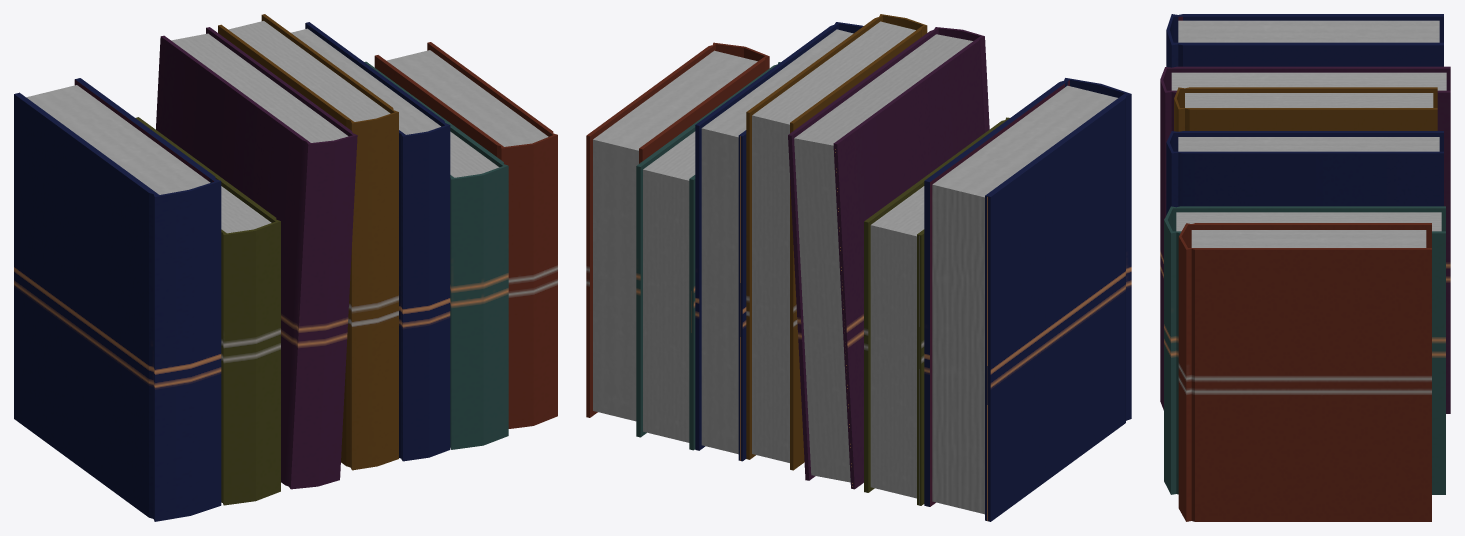
Rendered from Prop_Books_Stacks_3.fbx.
3 renders of one model, left to right at view 1: azimuth 30°, elevation 25°; view 2: azimuth 150°, elevation 25°; view 3: azimuth 270°, elevation 25°, orthographic. The views are drawn at different scales.
Visible parts, largest first — view 1: Prop_Books_Stacks_3; view 2: Prop_Books_Stacks_3; view 3: Prop_Books_Stacks_3.
Part boxes in pixels (x1,y1,x2,y2): Prop_Books_Stacks_3: (14, 14, 557, 521); Prop_Books_Stacks_3: (586, 14, 1131, 521); Prop_Books_Stacks_3: (1160, 14, 1450, 521).
Size of the model in its own units: 0.2193 by 0.177 by 0.139.
